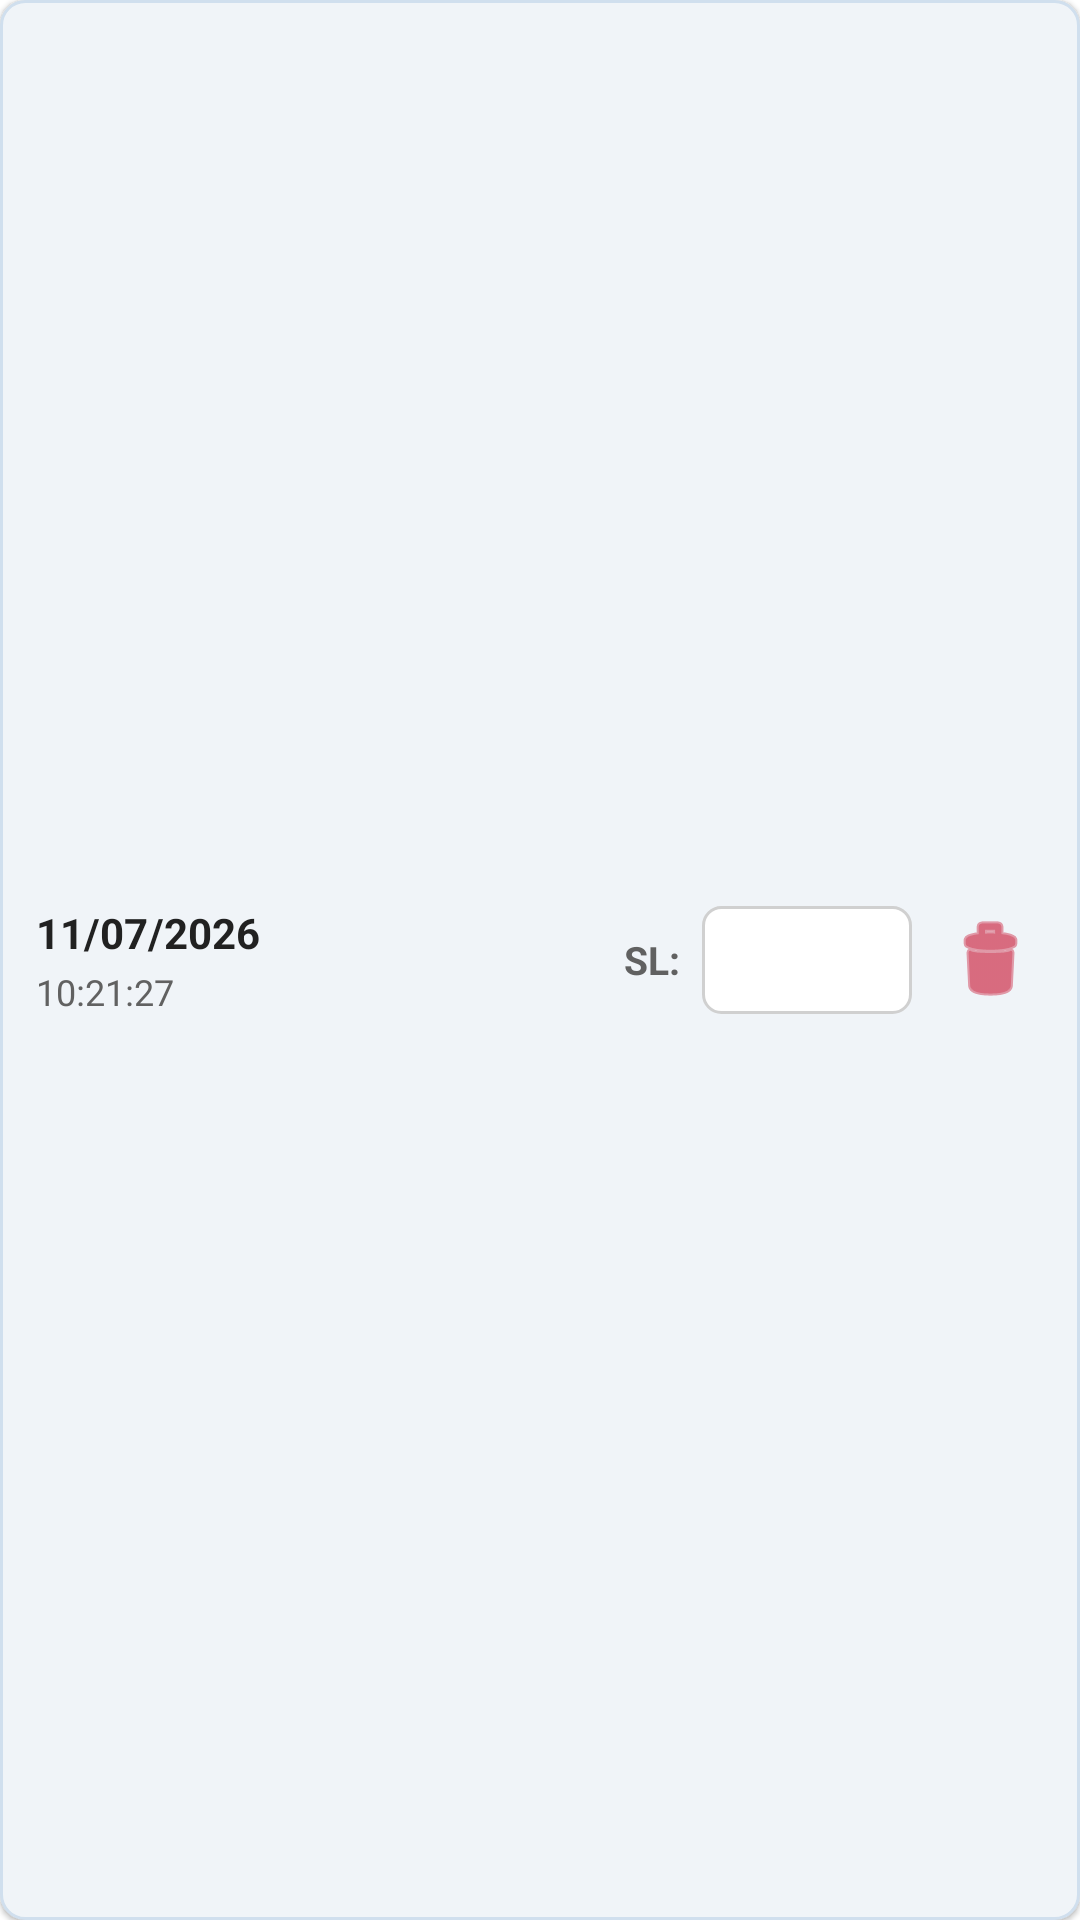

Named icons in this screenshot (1080px x 1920px) and their bounding boxes, (x1=x1, y1=y1, x2=x2, y2=y2):
Xóa dòng: (x1=963, y1=921, x2=1018, y2=996)
